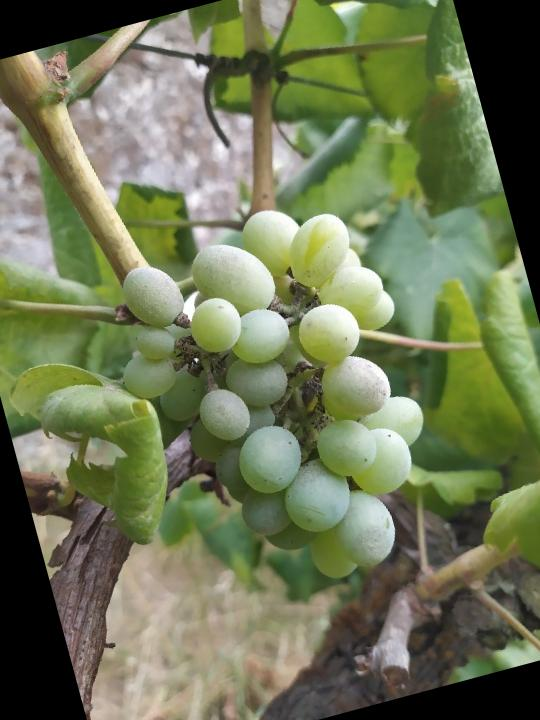grape: (86, 180, 464, 624)
